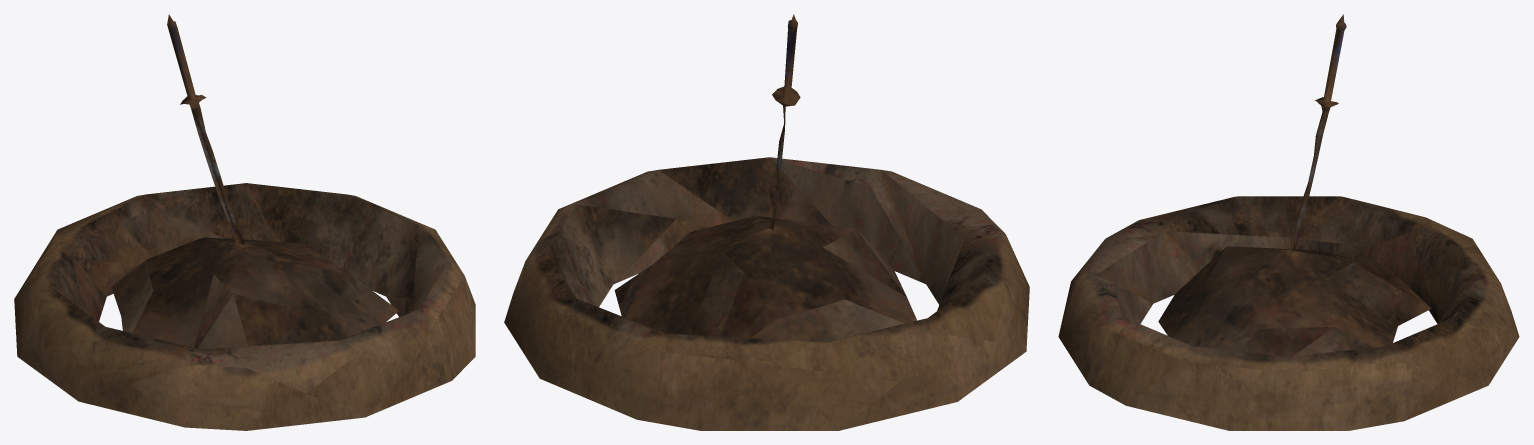
Rendered from Hoguerads.obj.
The picture shows the model from 3 angles, left to right: view 1: azimuth 30°, elevation 25°; view 2: azimuth 150°, elevation 25°; view 3: azimuth 270°, elevation 25°; orthographic projection. The views are drawn at different scales.
Parts seen in each view (by area): view 1: Torus001, Line004, Katana; view 2: Torus001, Line004, Katana; view 3: Torus001, Line004, Katana.
Boxes of the visible parts, x1,y1,x2,y2 form: Torus001: (14,183,475,430); Line004: (111,237,398,349); Katana: (167,14,244,245); Torus001: (504,157,1029,430); Line004: (614,215,916,342); Katana: (769,14,800,230); Torus001: (1058,196,1519,430); Line004: (1158,246,1431,356); Katana: (1290,14,1346,253).
Size of the model in its own units: 8.96 by 6.6 by 9.22.
Materials: 1 (1 with a texture image).
